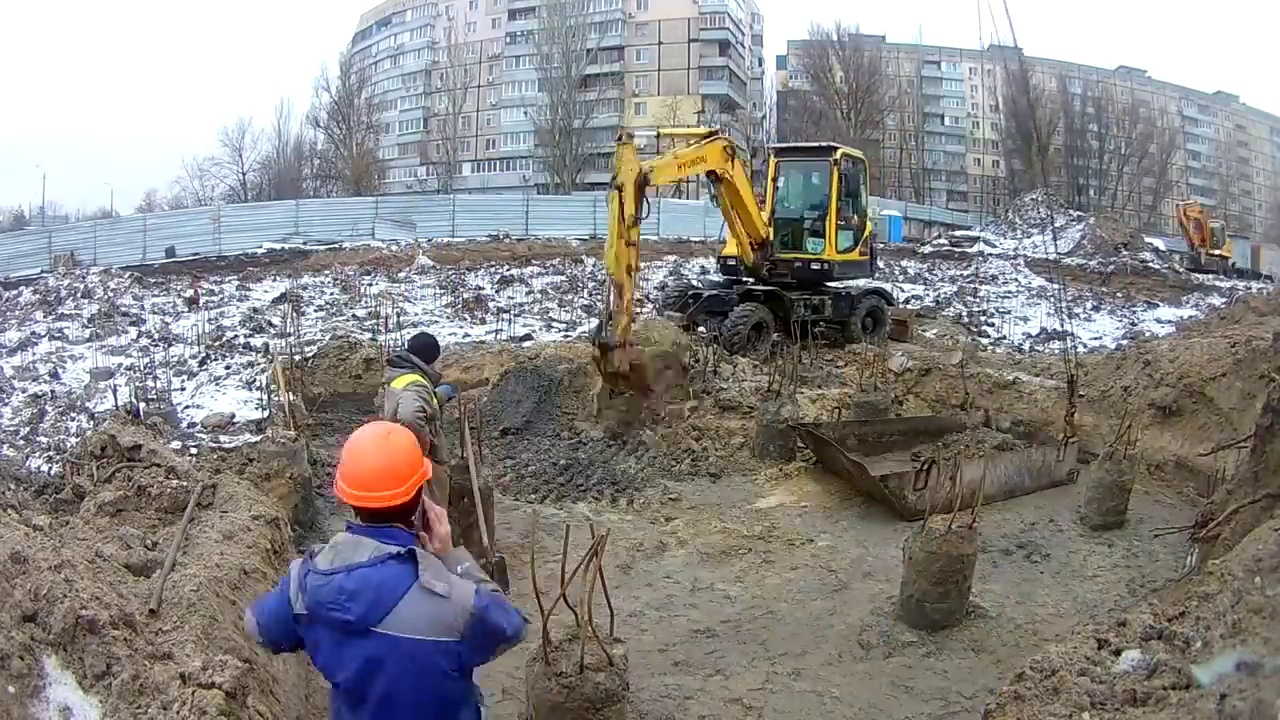helmet: (332, 429, 433, 509)
helmet-off: (399, 336, 439, 378)
helmet-on: (331, 417, 438, 547)
person: (257, 418, 528, 719), (379, 331, 448, 457)
